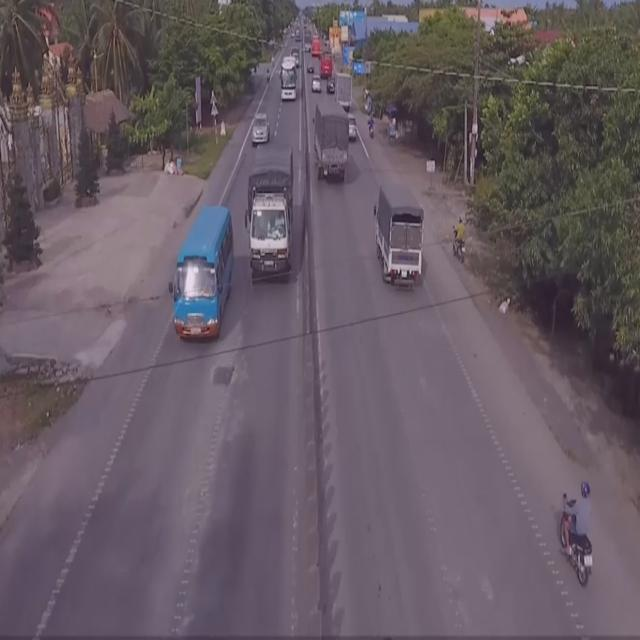bus: (169, 204, 235, 348), (278, 55, 298, 101)
car: (250, 112, 272, 151)
motorbike: (554, 481, 600, 592), (449, 216, 466, 270)
truck: (245, 142, 297, 292), (372, 184, 425, 289), (312, 104, 348, 186)
